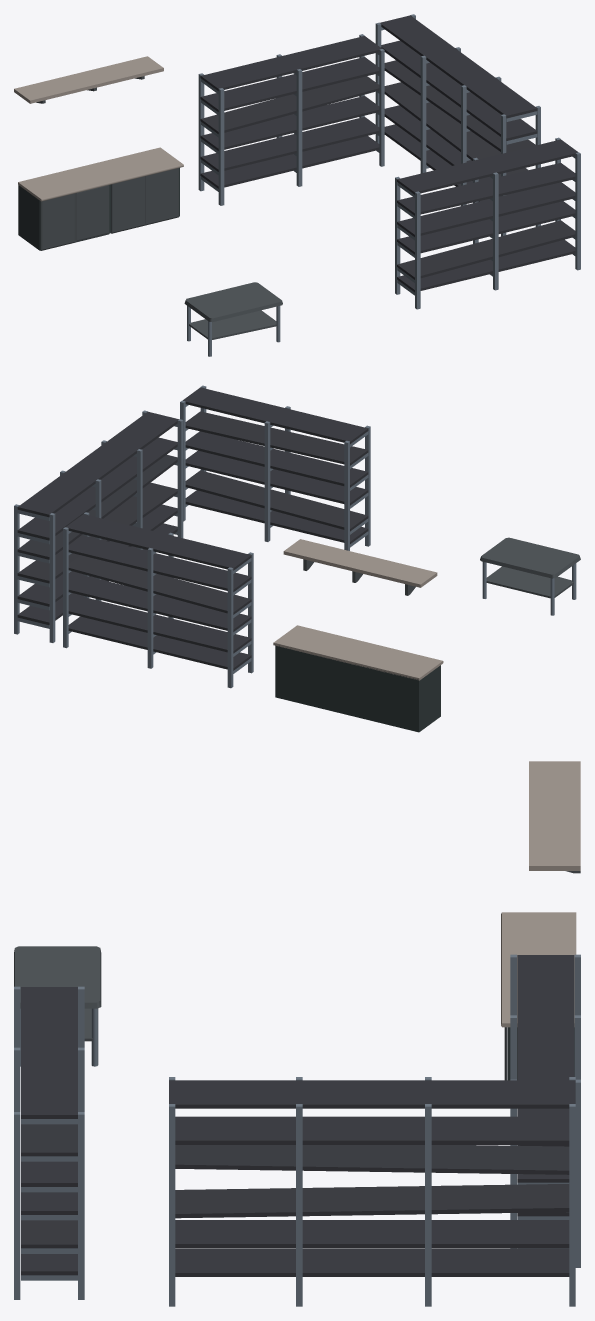
The model's file is stuff for fork room.fbx.
3 views of the same model, one above another, from view 1: azimuth 30°, elevation 25°; view 2: azimuth 150°, elevation 25°; view 3: azimuth 270°, elevation 25° (orthographic). The views are drawn at different scales.
Visible parts, largest first — view 1: fork shalf.001, fork shalf, fork shalf.002, fork shalf.004, fork shalf.003, fork shalf.005; view 2: fork shalf.001, fork shalf, fork shalf.002, fork shalf.004, fork shalf.003, fork shalf.005; view 3: fork shalf.002, fork shalf, fork shalf.001, fork shalf.005, fork shalf.003, fork shalf.004.
Part boxes in pixels (left/top/right/bottom): fork shalf.001: left=198, top=34, right=384, bottom=205; fork shalf: left=395, top=137, right=580, bottom=309; fork shalf.002: left=375, top=14, right=540, bottom=236; fork shalf.004: left=18, top=147, right=183, bottom=250; fork shalf.003: left=184, top=282, right=282, bottom=356; fork shalf.005: left=14, top=56, right=163, bottom=103; fork shalf.001: left=63, top=512, right=253, bottom=688; fork shalf: left=180, top=385, right=370, bottom=550; fork shalf.002: left=14, top=410, right=183, bottom=642; fork shalf.004: left=273, top=625, right=443, bottom=732; fork shalf.003: left=480, top=537, right=580, bottom=615; fork shalf.005: left=283, top=539, right=437, bottom=595; fork shalf.002: left=169, top=1077, right=575, bottom=1306; fork shalf: left=14, top=986, right=84, bottom=1299; fork shalf.001: left=510, top=954, right=580, bottom=1267; fork shalf.005: left=529, top=761, right=580, bottom=873; fork shalf.003: left=14, top=946, right=101, bottom=1066; fork shalf.004: left=501, top=912, right=576, bottom=1080.
Size of the model in its own units: 10.79 by 3.79 by 8.31.
